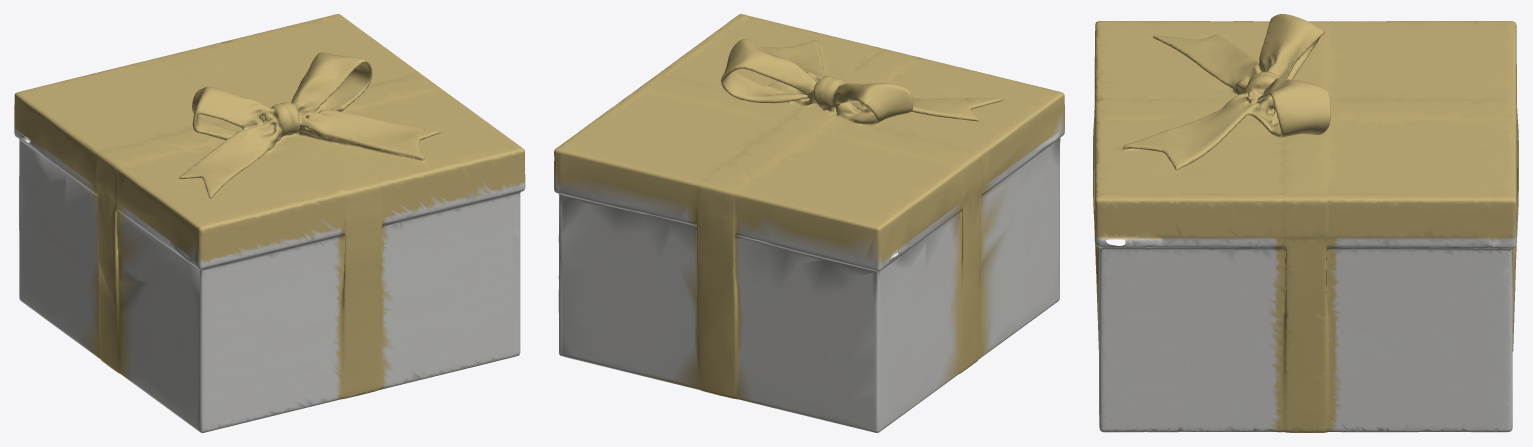
The model's file is cake_box.glb.
The picture shows the model from 3 angles, left to right: view 1: azimuth 30°, elevation 25°; view 2: azimuth 150°, elevation 25°; view 3: azimuth 270°, elevation 25°; orthographic projection. The views are drawn at different scales.
Visible parts, largest first — view 1: geometry_0; view 2: geometry_0; view 3: geometry_0.
Part boxes in pixels (x1,y1,x2,y2): geometry_0: (14,14,525,432); geometry_0: (554,14,1064,432); geometry_0: (1093,14,1518,432).
Size of the model in its own units: 0.1974 by 0.15 by 0.195.
